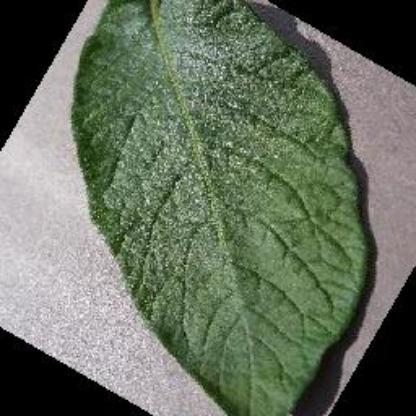Healthy-plant: (40, 9, 396, 414)
